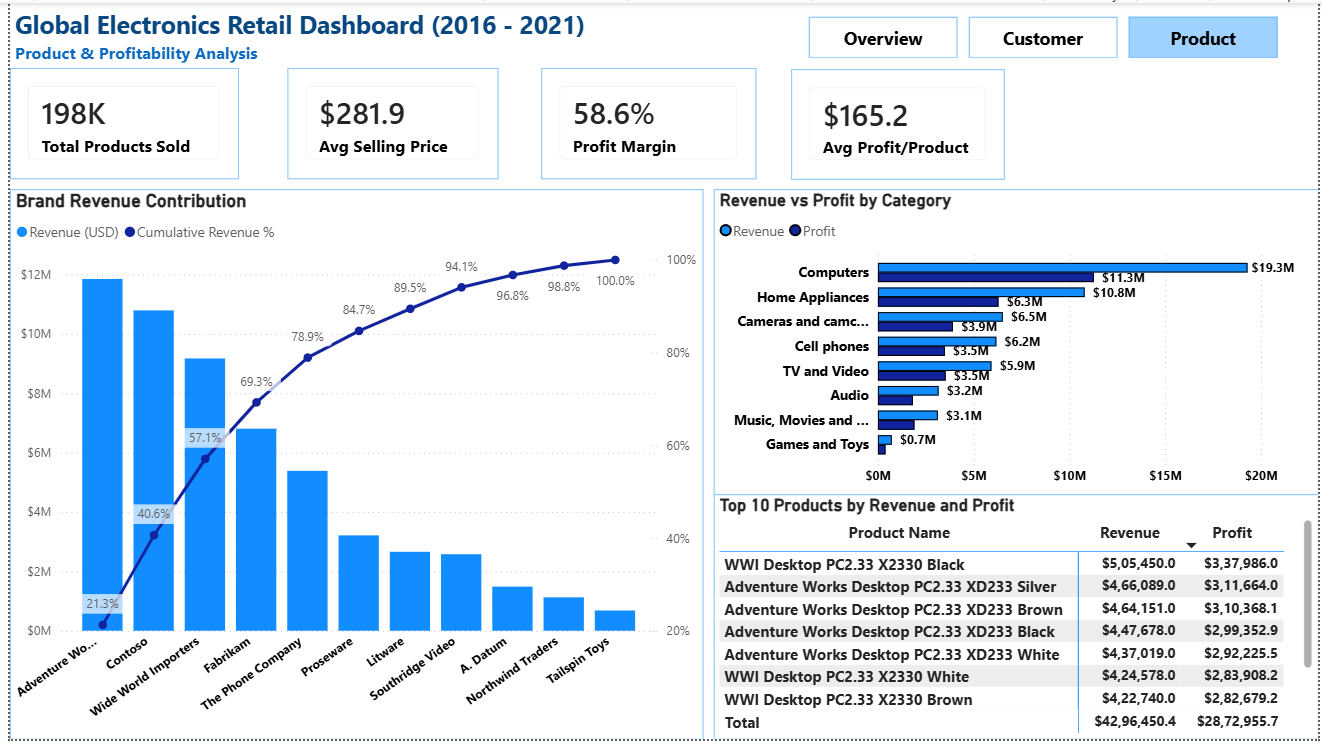

The page's visual inventory and layout, read from the dashboard file:
{"tool":"powerbi","page":{"name":"Product","canvas":[1280,720],"ordinal":2},"visuals":[{"type":"cardVisual","fields":{"Data":["Measures_Table.Total Products Sold"]},"box":[0,63.6,223.8,108.8],"z":0},{"type":"cardVisual","fields":{"Data":["Measures_Table.Average Selling Price"]},"box":[271.5,63.6,206.7,108.8],"z":1000},{"type":"cardVisual","fields":{"Data":["Measures_Table.Profit Margin"]},"box":[519.7,63.6,210.3,108.8],"z":2000},{"type":"cardVisual","fields":{"Data":["Measures_Table.Average Profit per Product"]},"box":[764.3,64.8,209.1,107.6],"z":3000},{"type":"clusteredBarChart","title":"Revenue vs Profit by Category","fields":{"Category":["Products.Category"],"Y":["Measures_Table.Revenue (USD)","Measures_Table.Profit"]},"box":[688.5,182.2,591.9,299.6],"z":4000},{"type":"pivotTable","title":"Top 10 Products by Revenue and Profit","fields":{"Rows":["Products.Product Name"],"Values":["Measures_Table.Revenue (USD)","Measures_Table.Profit"]},"box":[688.5,480.6,591.9,239.7],"z":5000},{"type":"textbox","box":[0,0,847.4,63.6],"z":6000},{"type":"lineClusteredColumnComboChart","title":"Brand Revenue Contribution","fields":{"Category":["Products.Brand"],"Y":["Measures_Table.Revenue (USD)"],"Y2":["Measures_Table.Cumulative Revenue %"]},"box":[0,182.2,678.7,538],"z":7000},{"type":"actionButton","title":"Overview","box":[781.4,13.5,145.5,40.4],"z":7001},{"type":"actionButton","box":[937.9,13.5,145.5,40.4],"z":7002},{"type":"actionButton","box":[1094.4,13.5,145.5,40.4],"z":7003}]}

Visuals, with their boxes in screenshot pixels (x1, y1, x2, y2), scaled from the page's 1280x720 canvas onto the 1322x745 screenshot:
cardVisual - Measures_Table.Total Products Sold: box=[0, 66, 231, 178]
cardVisual - Measures_Table.Average Selling Price: box=[280, 66, 494, 178]
cardVisual - Measures_Table.Profit Margin: box=[537, 66, 754, 178]
cardVisual - Measures_Table.Average Profit per Product: box=[789, 67, 1005, 178]
"Revenue vs Profit by Category" clusteredBarChart: box=[711, 189, 1321, 499]
"Top 10 Products by Revenue and Profit" pivotTable: box=[711, 497, 1321, 744]
textbox: box=[0, 0, 875, 66]
"Brand Revenue Contribution" lineClusteredColumnComboChart: box=[0, 189, 701, 744]
"Overview" actionButton: box=[807, 14, 957, 56]
actionButton: box=[969, 14, 1119, 56]
actionButton: box=[1130, 14, 1281, 56]
